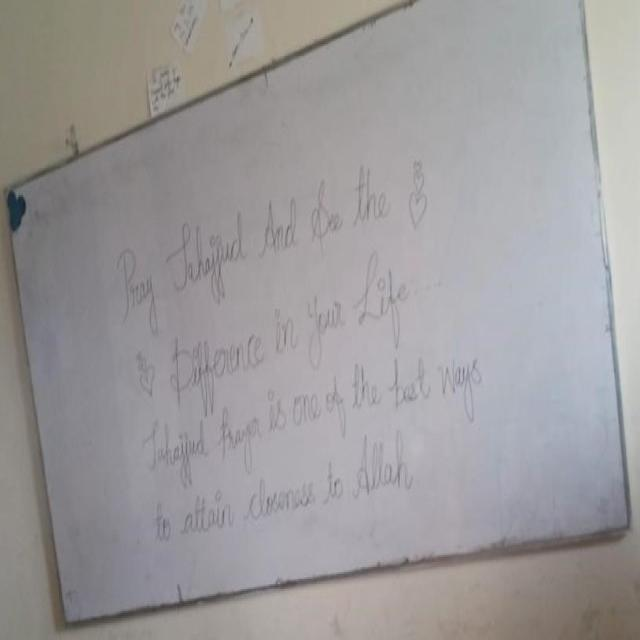White-board: (6, 0, 630, 625)
